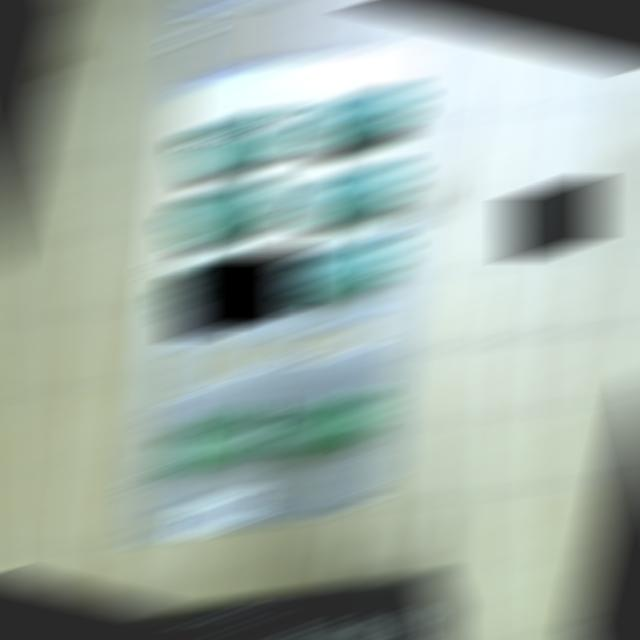Terminal_1: (271, 397, 386, 452), (159, 417, 273, 469)
Terminal_2: (290, 242, 401, 296), (163, 258, 275, 310), (170, 184, 281, 236), (298, 167, 408, 218), (307, 91, 415, 140)
